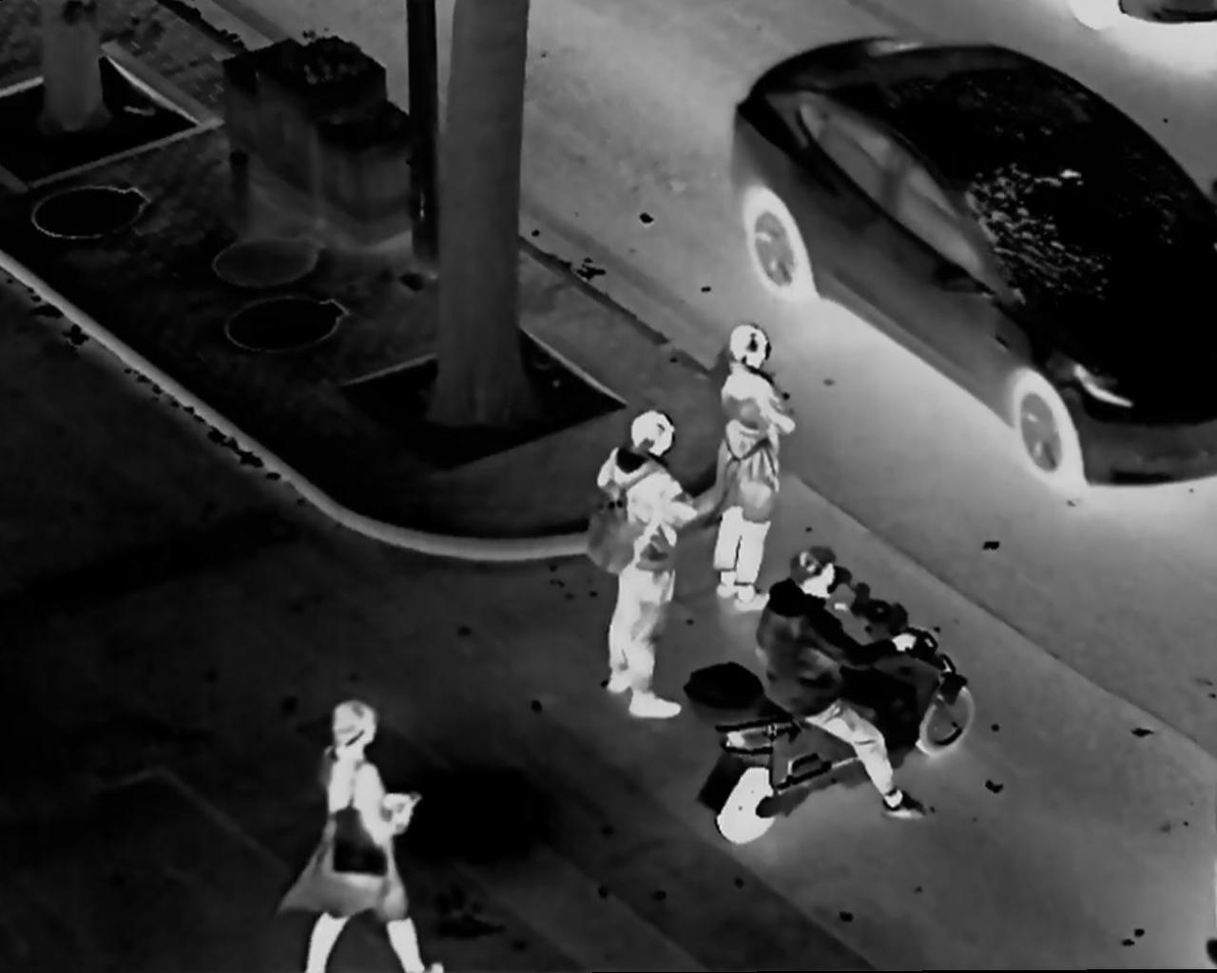person: (757, 544, 949, 819), (277, 694, 454, 973), (579, 409, 694, 725), (709, 317, 795, 618)
